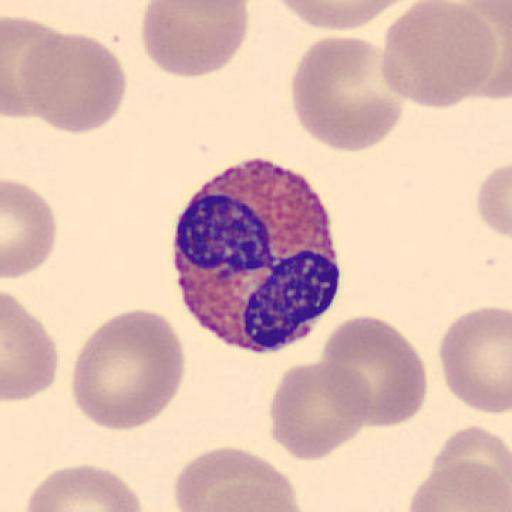RBC: (70, 307, 187, 433), (290, 33, 405, 153), (380, 1, 498, 109), (318, 314, 427, 429), (15, 29, 129, 135), (268, 360, 373, 461), (174, 444, 302, 512), (142, 0, 250, 79), (438, 304, 512, 415), (431, 0, 512, 99), (432, 424, 512, 505), (1, 16, 60, 122), (2, 294, 59, 403), (22, 462, 143, 512), (178, 465, 304, 512), (2, 177, 58, 280), (407, 460, 512, 512), (459, 1, 512, 102), (275, 0, 418, 32), (194, 479, 302, 512), (476, 161, 512, 241), (435, 0, 512, 23)
WBC: (168, 156, 344, 356)
